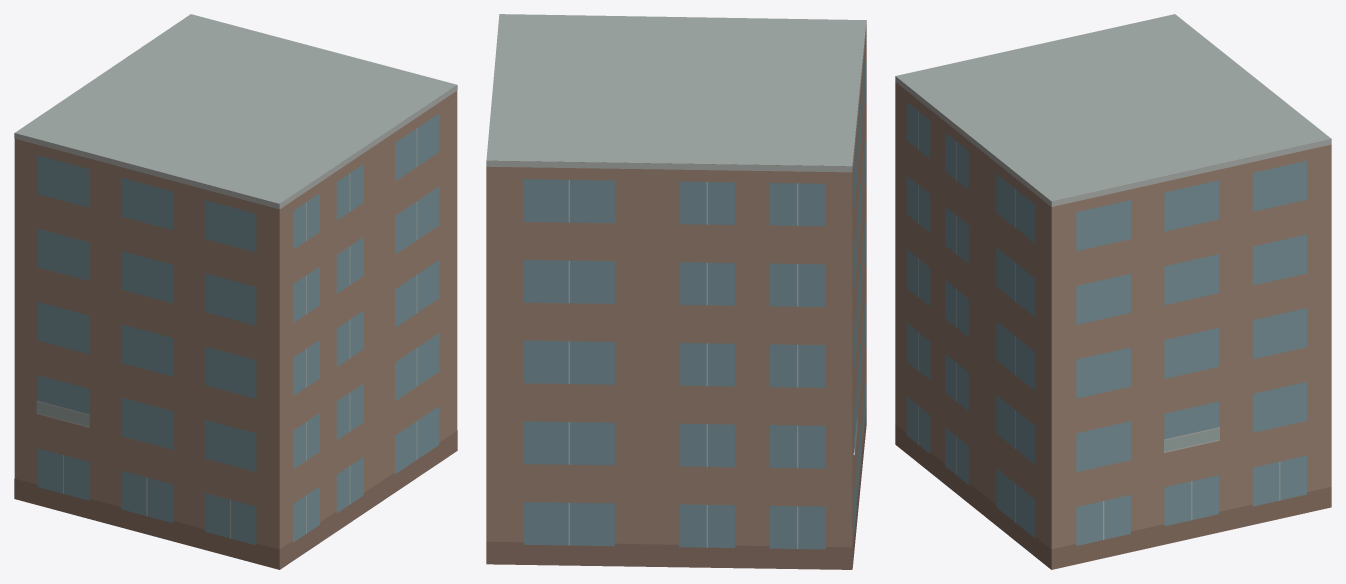
File: survey-upis-32769409.glb
3 views of the same model, side by side, from view 1: azimuth 30°, elevation 25°; view 2: azimuth 150°, elevation 25°; view 3: azimuth 270°, elevation 25° (orthographic). The views are drawn at different scales.
Visible parts, largest first — view 1: survey-upis-32769409.tmp; view 2: survey-upis-32769409.tmp; view 3: survey-upis-32769409.tmp.
Part boxes in pixels (x1,y1,x2,y2): survey-upis-32769409.tmp: [14, 14, 457, 569]; survey-upis-32769409.tmp: [486, 14, 866, 569]; survey-upis-32769409.tmp: [895, 14, 1331, 569].
Bounding box in the file's own units: 17.46 × 16 × 17.18.
